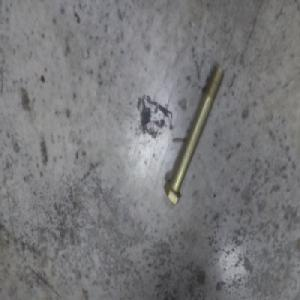Bolt: (162, 67, 221, 204)
